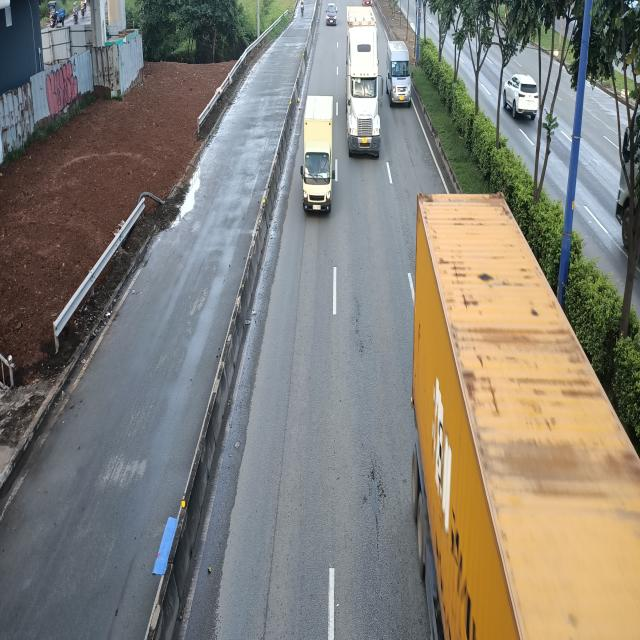container: (417, 192, 640, 639), (346, 6, 386, 158)
truck: (300, 94, 335, 216)
van: (386, 40, 413, 106)
